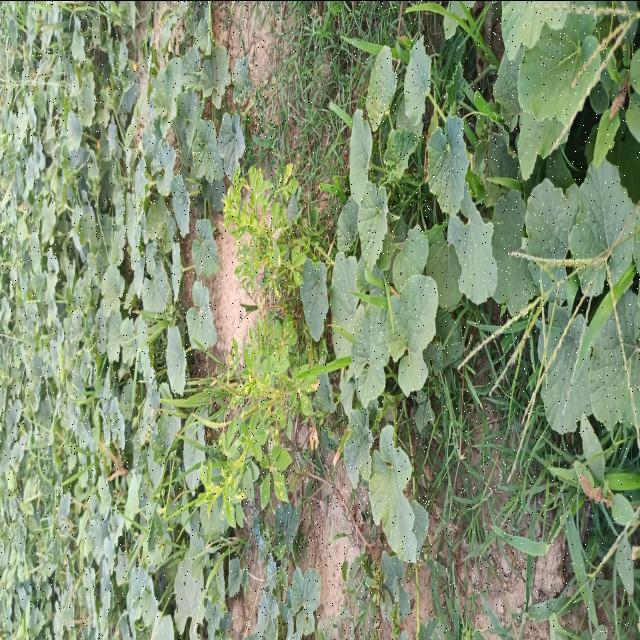plant: (201, 166, 344, 525)
